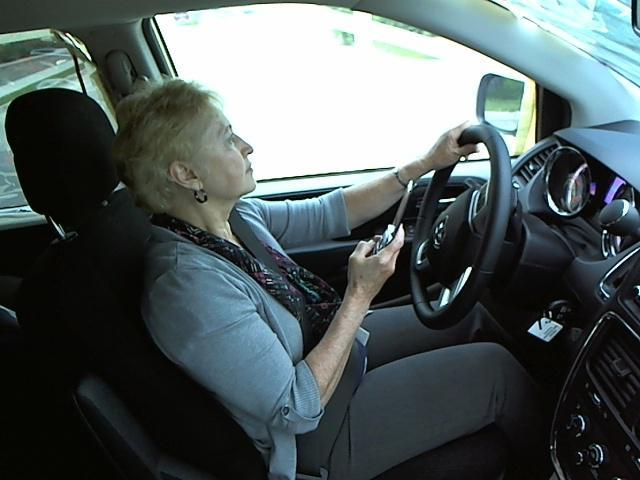PhoneUse: (364, 175, 419, 275)
